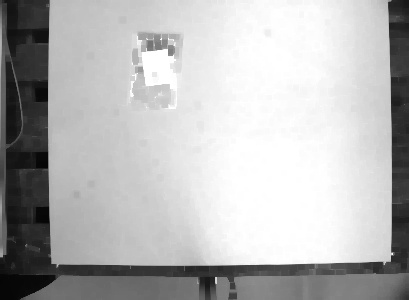t2: (126, 27, 184, 110)
